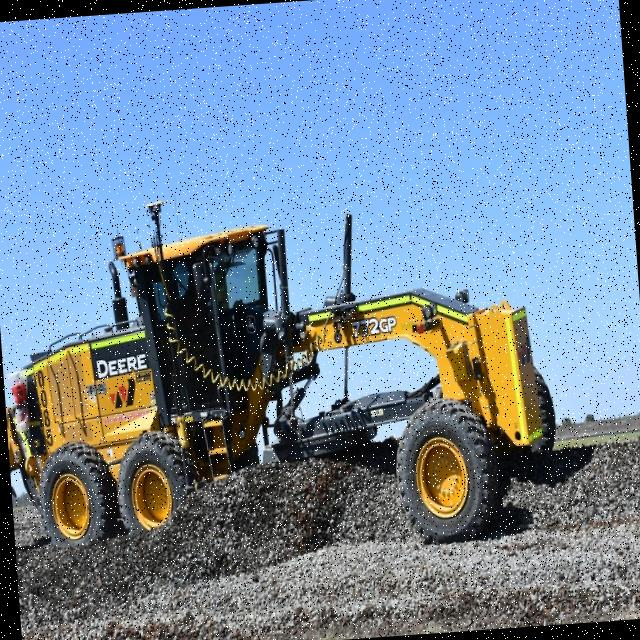Grader: (0, 195, 564, 579)
